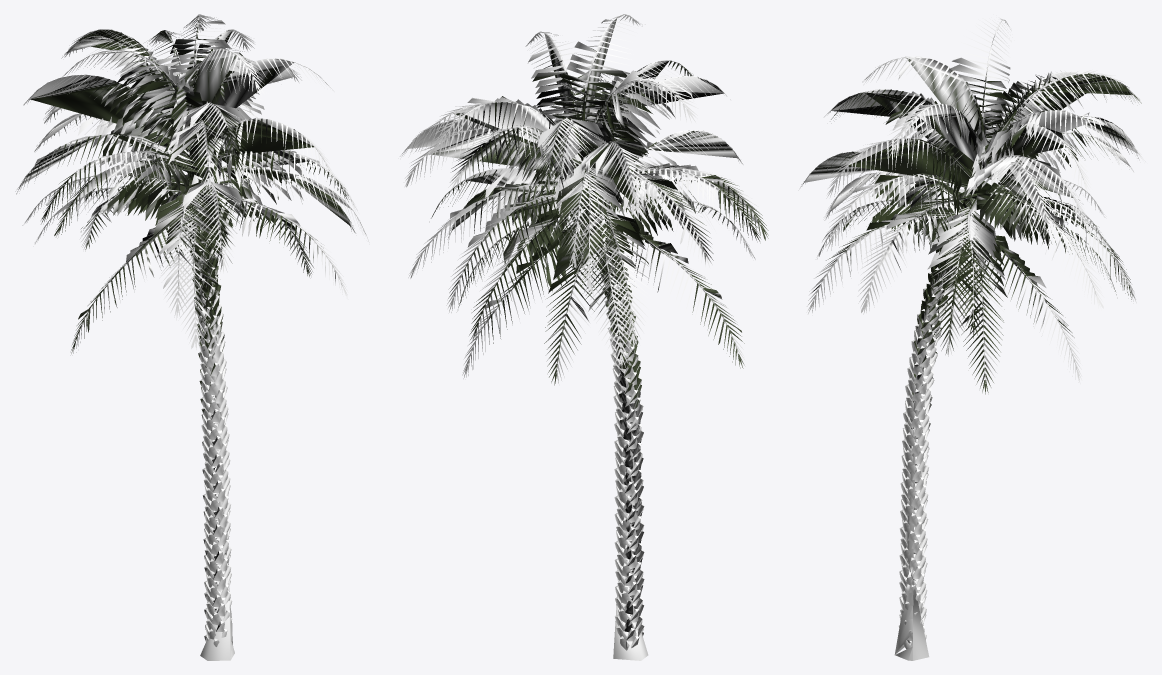
3 renders of one model, left to right at view 1: azimuth 30°, elevation 25°; view 2: azimuth 150°, elevation 25°; view 3: azimuth 270°, elevation 25°, orthographic. The views are drawn at different scales.
Visible parts, largest first — view 1: Material__35; view 2: Material__35; view 3: Material__35.
Part boxes in pixels (x1,y1,x2,y2): Material__35: (15,14,369,660); Material__35: (400,14,768,660); Material__35: (800,18,1145,660).
Size of the model in its own units: 11.2 by 20.54 by 10.78.
Materials: 1 (1 with a texture image).
